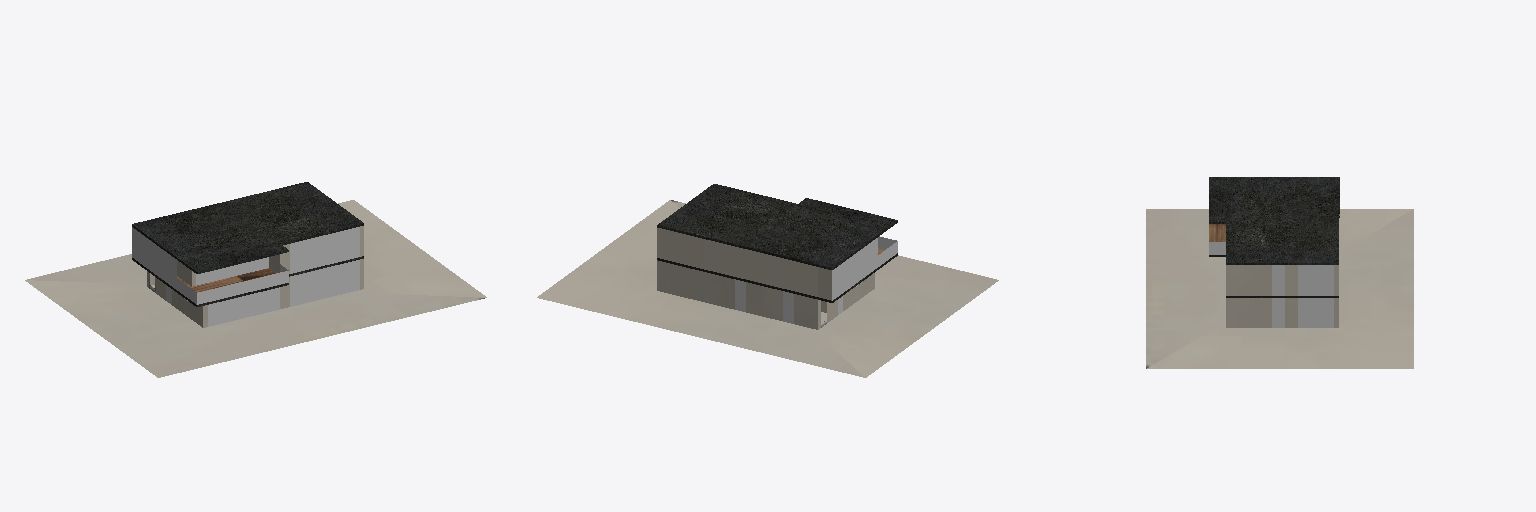
3 renders of one model, left to right at view 1: azimuth 30°, elevation 25°; view 2: azimuth 150°, elevation 25°; view 3: azimuth 270°, elevation 25°, orthographic.
Parts seen in each view (by area): view 1: piso_Plane.034, 3PLANTA_firme_Plane.047, 1PLANTA_paredes_Plane, Plane.032, 2PLANTA-paredes_Plane.046, 1PLANTA_duela_Plane.043, 2PLANTA_negro_Plane.049, 1planta_negro_Plane.016, Plane.018, Plane.004, Plane.020, Plane.006; view 2: piso_Plane.034, 3PLANTA_firme_Plane.047, 2PLANTA-paredes_Plane.046, 1PLANTA_paredes_Plane, 2PLANTA_negro_Plane.049, 1planta_negro_Plane.016; view 3: piso_Plane.034, 3PLANTA_firme_Plane.047, 2PLANTA-paredes_Plane.046, 1PLANTA_paredes_Plane, Plane.022, Plane.001.
Boxes of the visible parts, x1,y1,x2,y2 form: piso_Plane.034: [25, 200, 486, 377]; 3PLANTA_firme_Plane.047: [132, 182, 362, 271]; 1PLANTA_paredes_Plane: [147, 259, 363, 327]; Plane.032: [197, 271, 288, 304]; 2PLANTA-paredes_Plane.046: [177, 226, 363, 286]; 1PLANTA_duela_Plane.043: [177, 268, 275, 292]; 2PLANTA_negro_Plane.049: [132, 223, 363, 273]; 1planta_negro_Plane.016: [132, 256, 363, 306]; Plane.018: [307, 235, 324, 269]; Plane.004: [307, 268, 324, 302]; Plane.020: [342, 227, 359, 260]; Plane.006: [342, 260, 359, 293]; piso_Plane.034: [537, 200, 998, 377]; 3PLANTA_firme_Plane.047: [658, 184, 896, 267]; 2PLANTA-paredes_Plane.046: [657, 228, 831, 300]; 1PLANTA_paredes_Plane: [657, 260, 874, 329]; 2PLANTA_negro_Plane.049: [657, 220, 897, 269]; 1planta_negro_Plane.016: [657, 253, 897, 302]; piso_Plane.034: [1146, 209, 1413, 368]; 3PLANTA_firme_Plane.047: [1209, 177, 1339, 262]; 2PLANTA-paredes_Plane.046: [1226, 214, 1339, 295]; 1PLANTA_paredes_Plane: [1226, 298, 1338, 327]; Plane.022: [1298, 265, 1333, 295]; Plane.001: [1298, 298, 1333, 327].
Bounding box in the file's own units: 28.27 × 5.4 × 19.92.
5 materials, 4 textured.